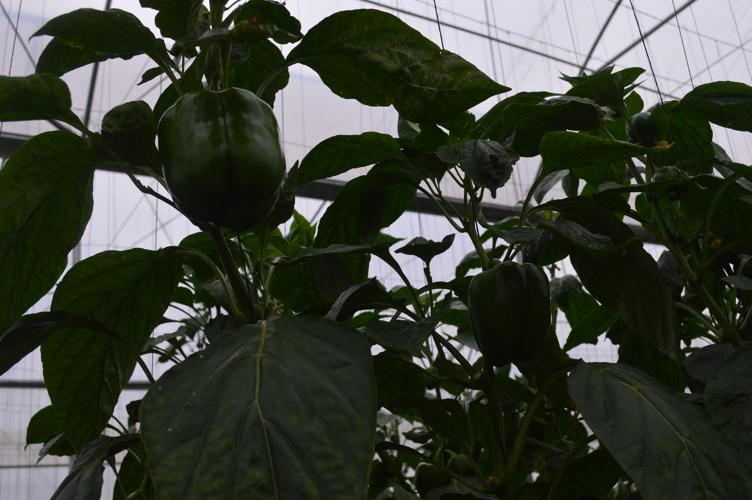BellPepper: (156, 88, 285, 226), (452, 263, 549, 361)
